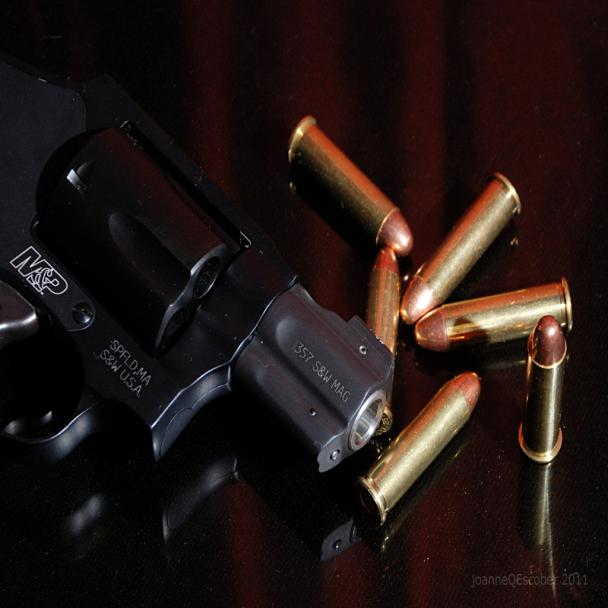Gun: (3, 2, 414, 608)
